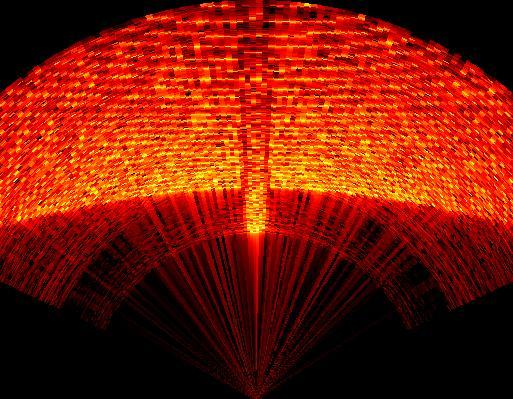pipe: (236, 4, 270, 233)
